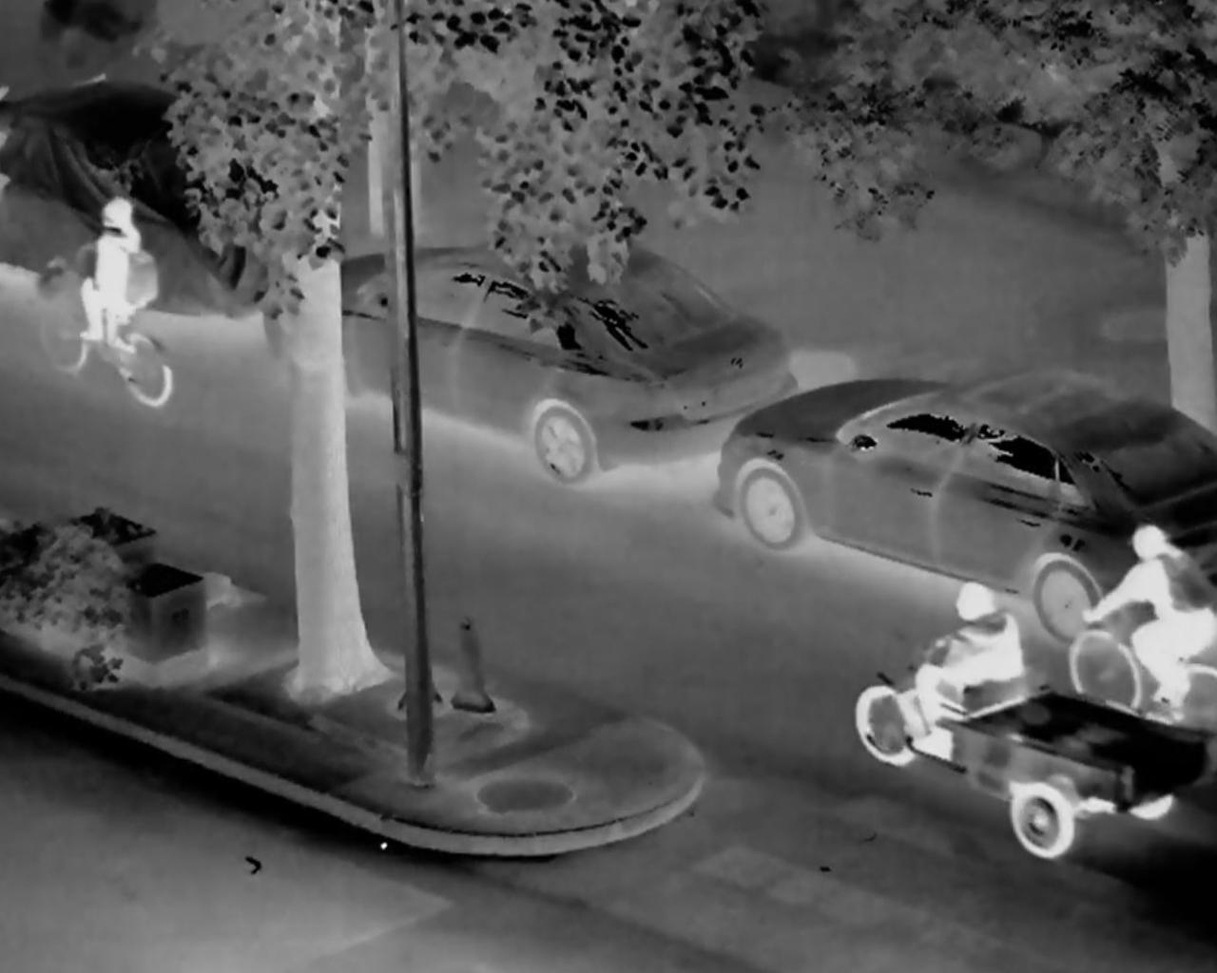person: (1091, 521, 1217, 702), (70, 189, 187, 375), (918, 576, 1029, 754)
